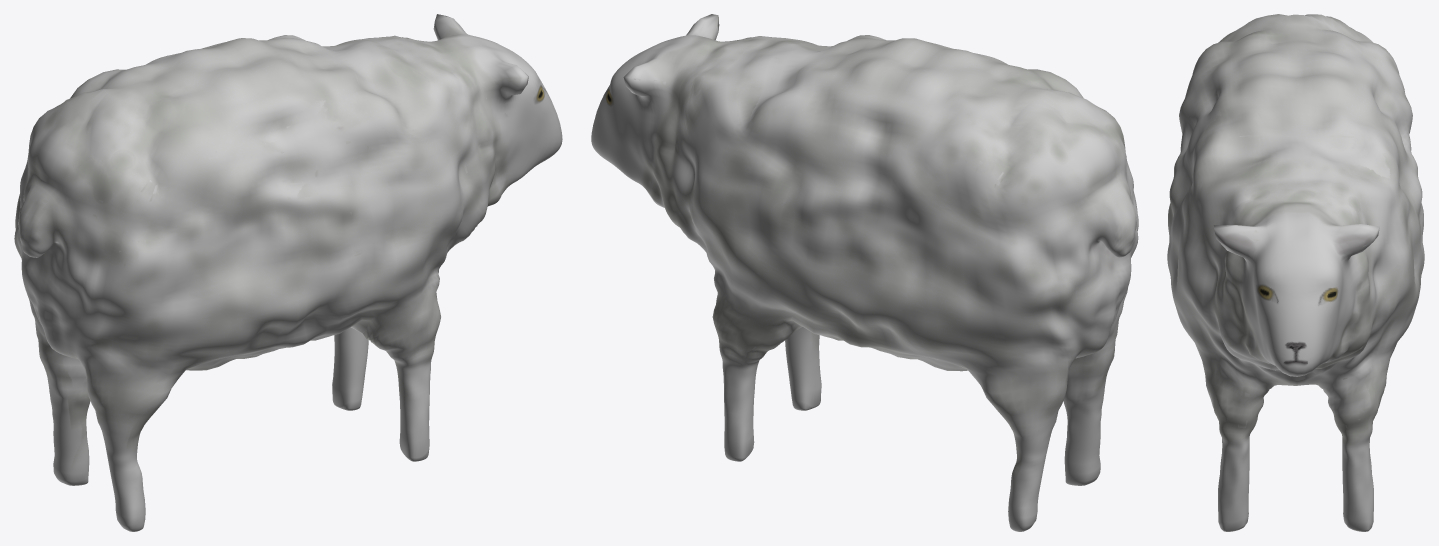
Rendered from SheepModel.fbx.
3 renders of one model, left to right at view 1: azimuth 30°, elevation 25°; view 2: azimuth 150°, elevation 25°; view 3: azimuth 270°, elevation 25°, orthographic. The views are drawn at different scales.
Visible parts, largest first — view 1: Cube; view 2: Cube; view 3: Cube.
Part boxes in pixels (box(x1,y1,x2,y2)): Cube: box(14, 14, 562, 531); Cube: box(591, 14, 1138, 531); Cube: box(1167, 14, 1424, 531).
Size of the model in its own units: 302 by 223 by 130.
Materials: 1 (1 with a texture image).
